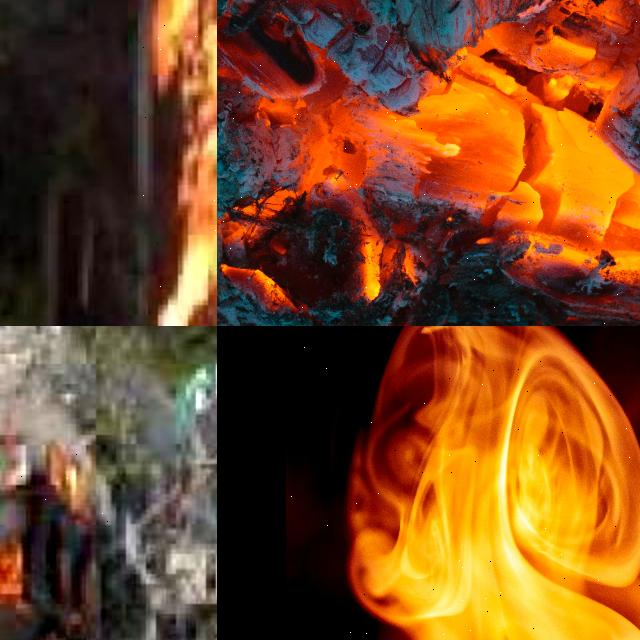fire: (217, 0, 640, 326), (346, 326, 640, 640), (144, 0, 217, 326), (0, 435, 113, 526), (0, 544, 23, 604)
